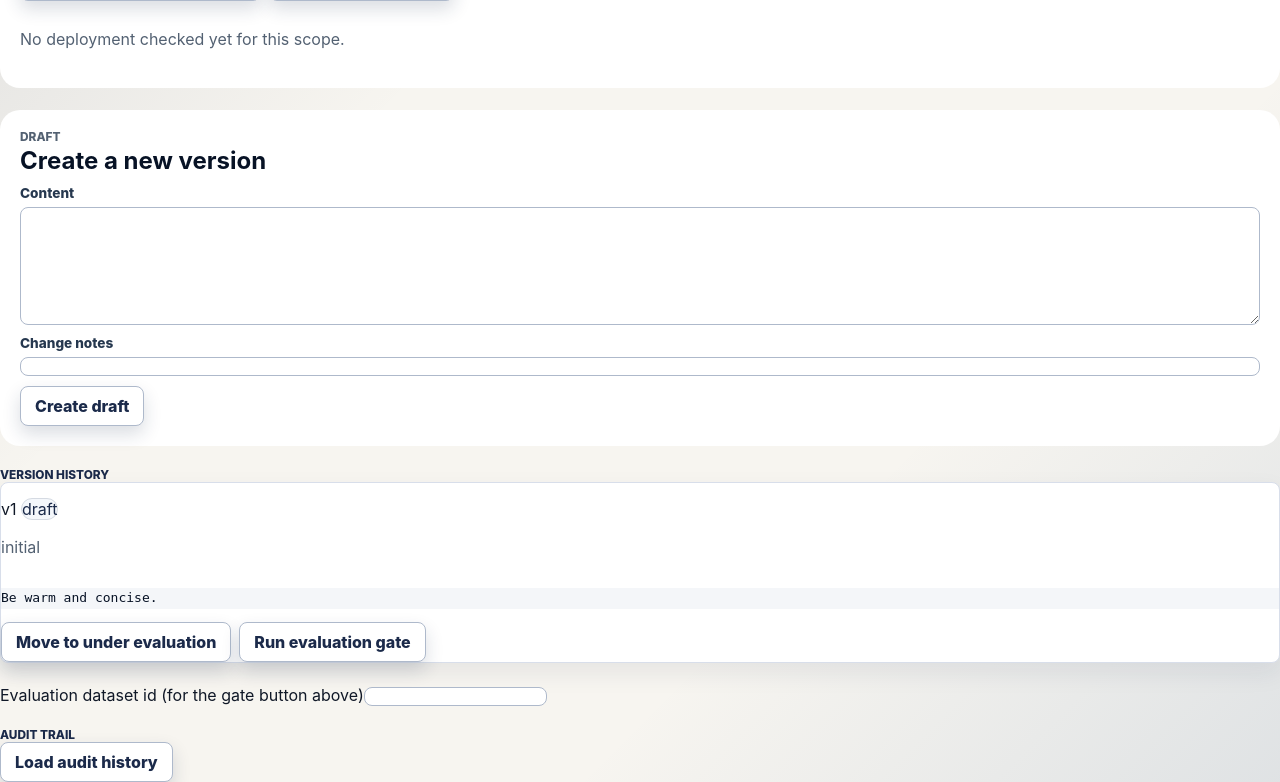
Test: PromptTemplateDetailView › transitions a version's status via POST
(page scrolled)
What coordinates should you click on to do the following:
click the button "Move to under evaluation"
I would click on:
 (116, 642)
Its box is [1,622,231,662].
(page scrolled)
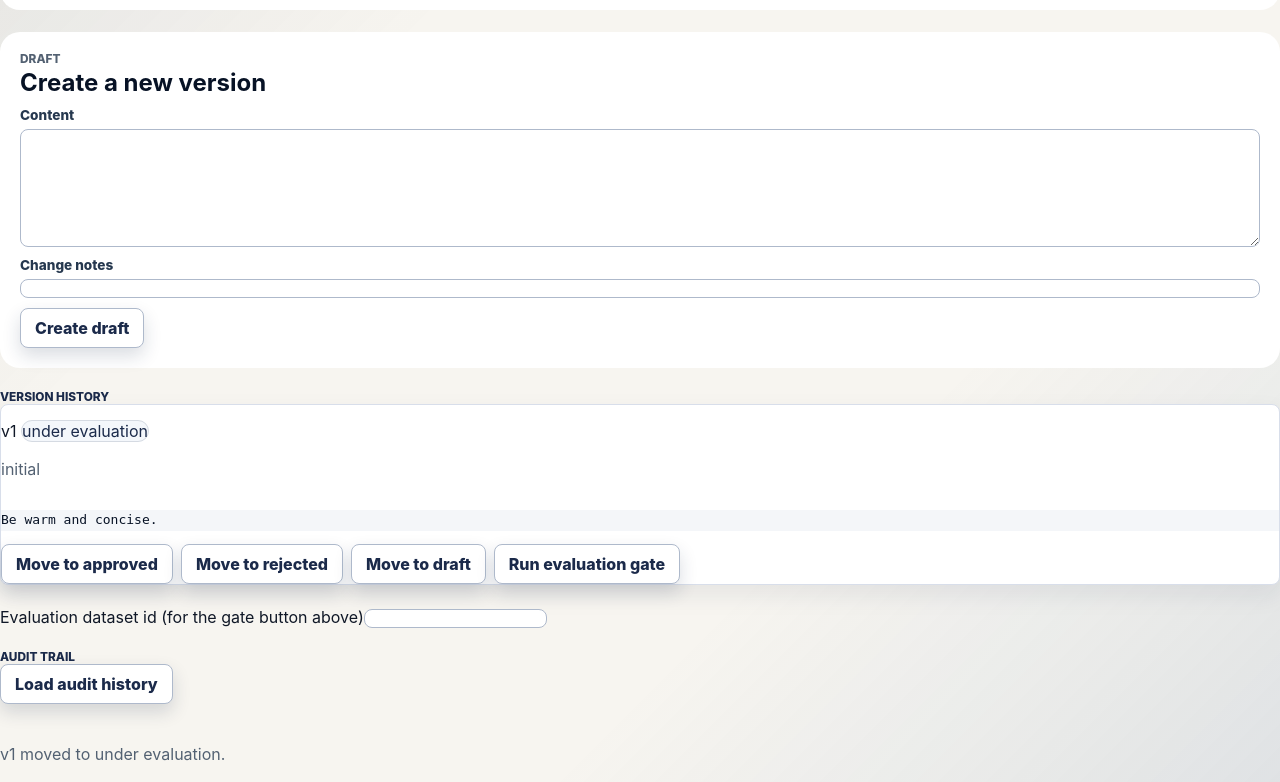
Result: the text "v1 moved to under evaluation." is shown at [0,744,225,764]
